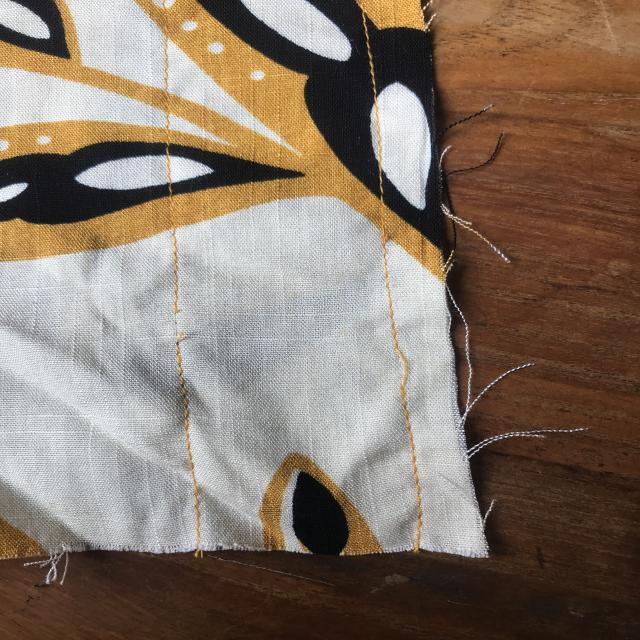broken: (152, 282, 200, 358)
skip: (381, 340, 426, 397)
